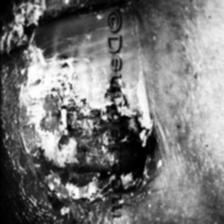Toxin: (15, 30, 161, 205)
